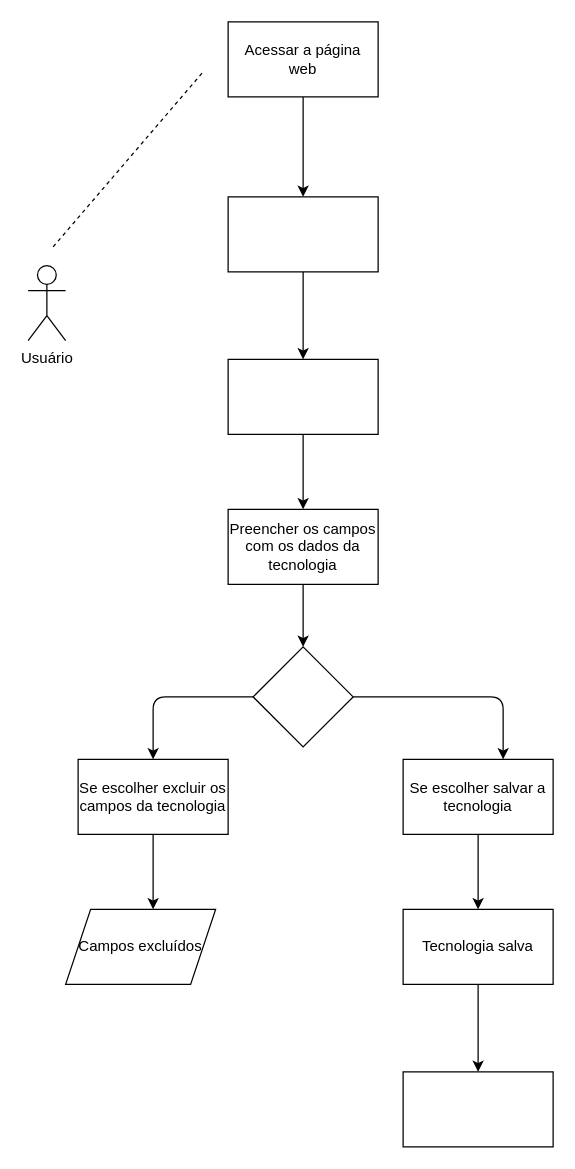
Some shapes in this 575 by 1169 pixel diagram are drawn without their labels. The shapes that lost their labels are listed below. From the top down, each one's centre as x and y in pixels, then its label:
At point 302,234: "Preencher campos indicados".
At point 302,396: "Clicar no botão para adicionar uma nova tecnologia".
At point 302,696: "Usuário escolhe ação".
At point 477,1109: "Campos do formulário serão limpos".
